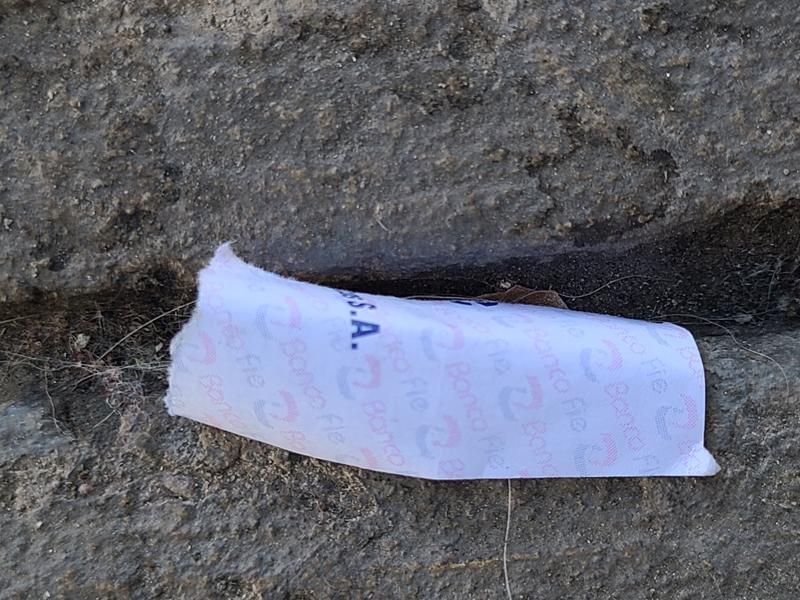papel: (162, 243, 722, 483)
